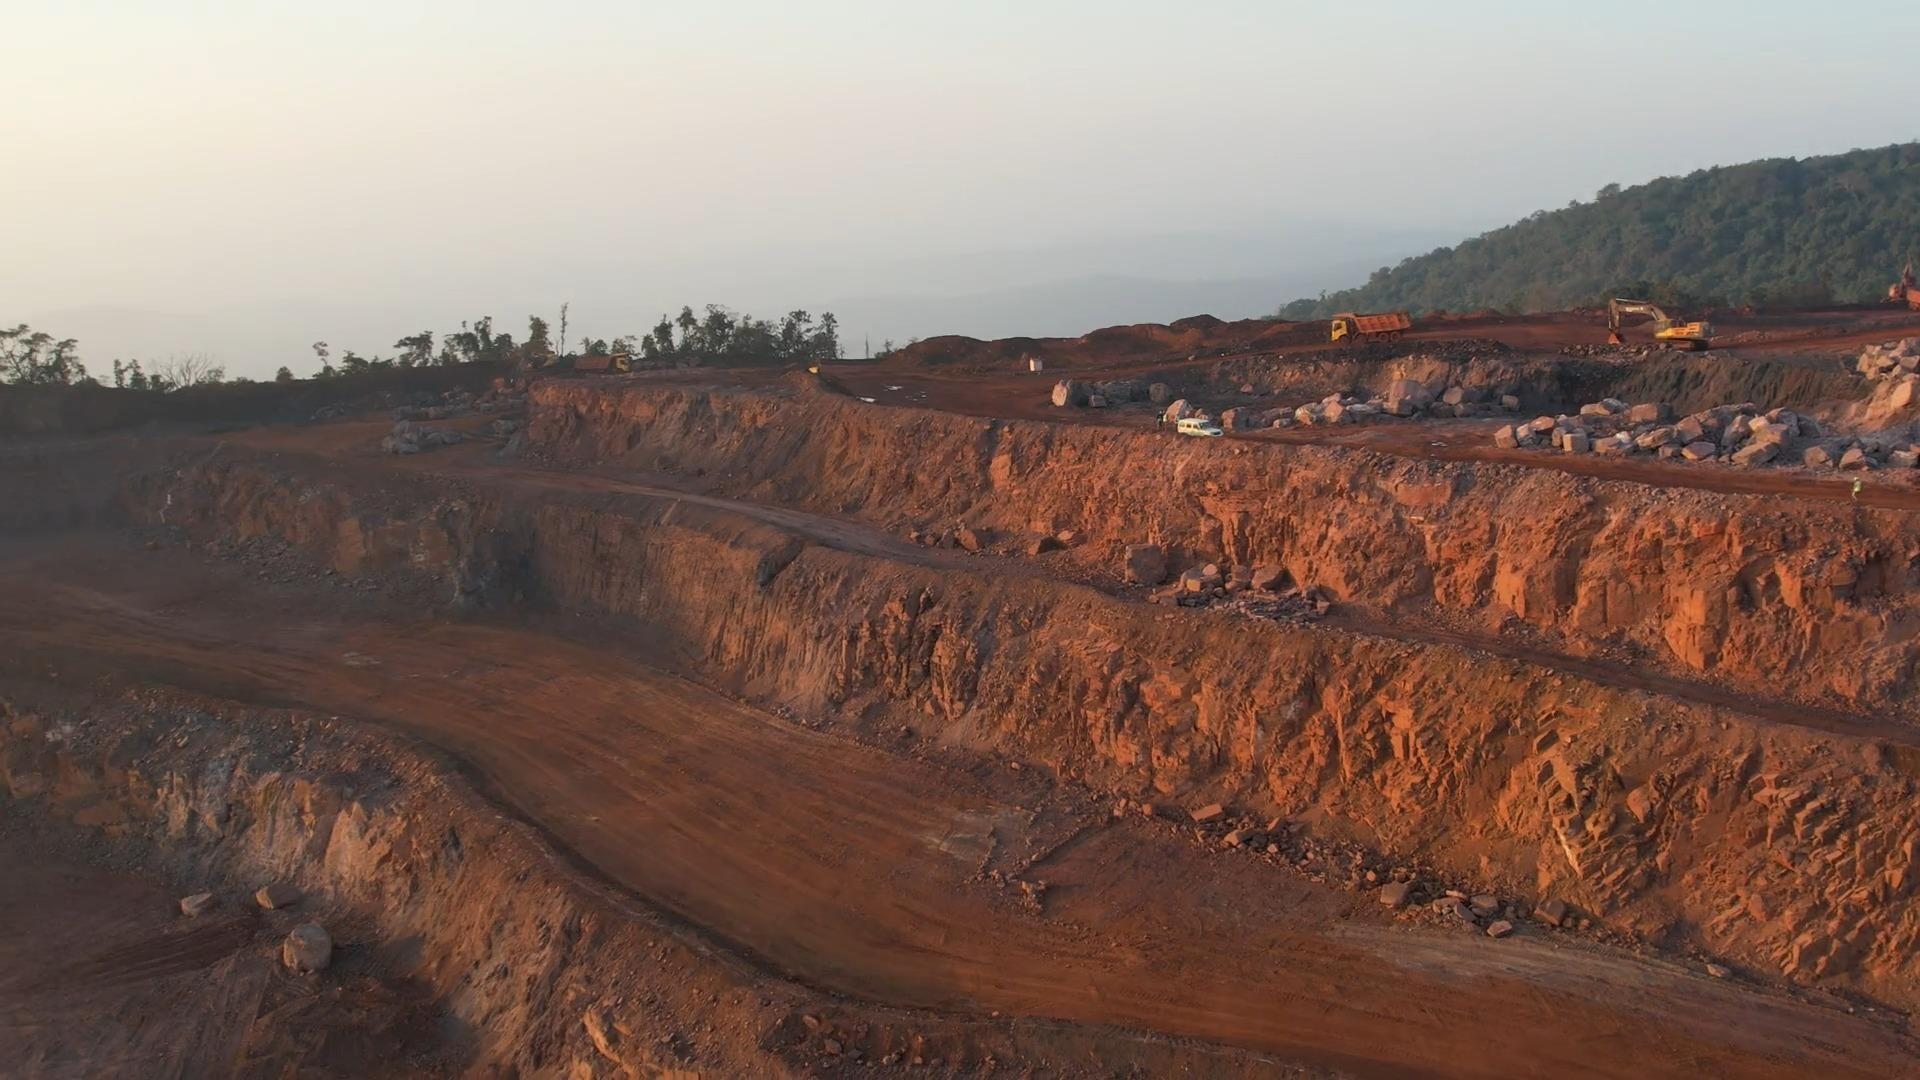excavator: (1606, 295, 1714, 352)
